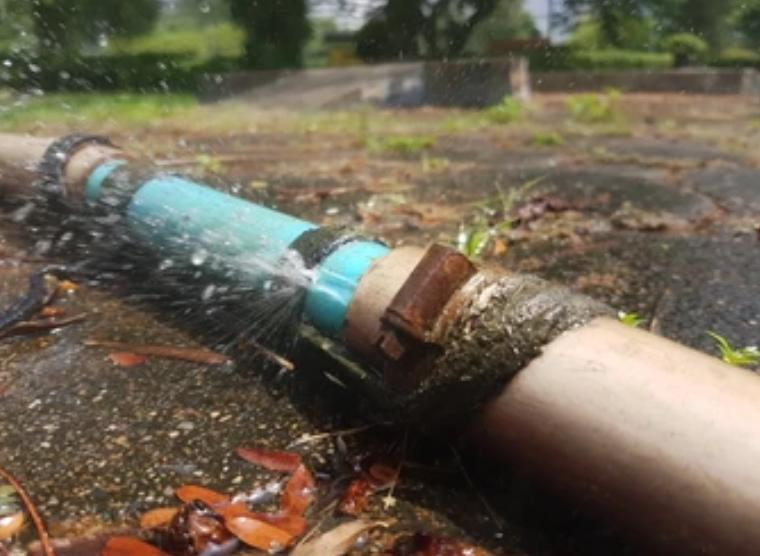pipe burst: (118, 171, 360, 306)
